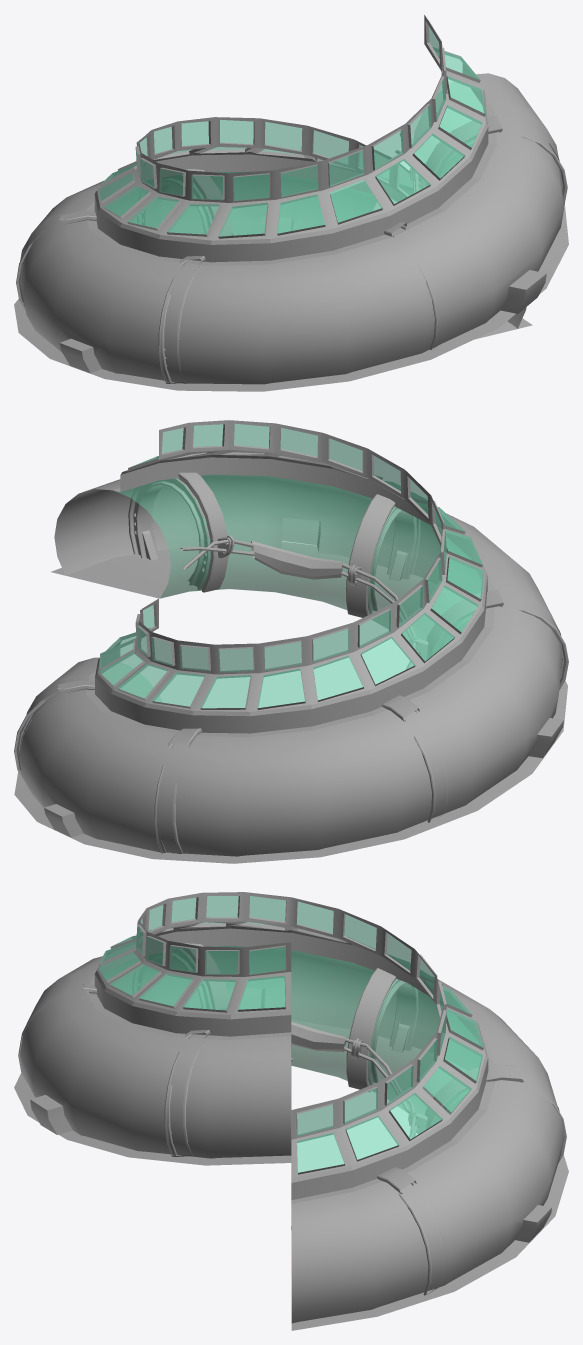
File: tou03.fbx
3 renders of one model, top to bottom at view 1: azimuth 30°, elevation 25°; view 2: azimuth 150°, elevation 25°; view 3: azimuth 270°, elevation 25°, orthographic.
Parts seen in each view (by area): view 1: polySurface22; view 2: polySurface22; view 3: polySurface22.
Boxes of the visible parts, x1,y1,x2,y2 form: polySurface22: (14, 15, 568, 391); polySurface22: (14, 420, 568, 863); polySurface22: (14, 892, 568, 1330).
Size of the model in its own units: 17.66 by 11.68 by 17.48.
